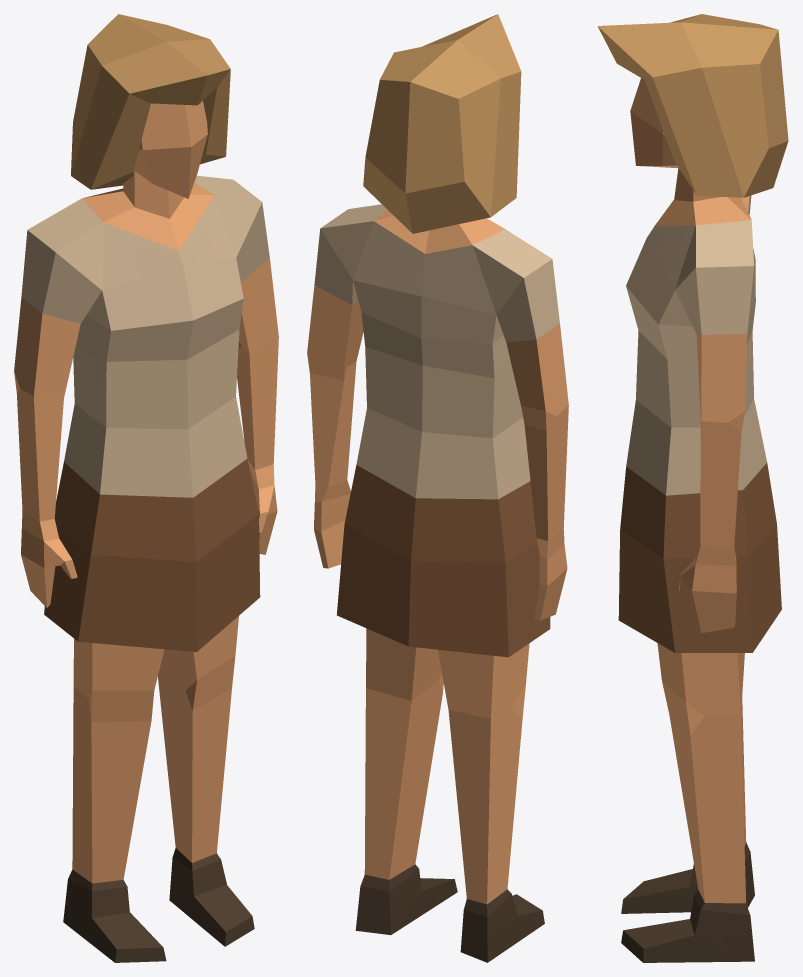
File: casual woman.obj
3 renders of one model, left to right at view 1: azimuth 30°, elevation 25°; view 2: azimuth 150°, elevation 25°; view 3: azimuth 270°, elevation 25°, orthographic. The views are drawn at different scales.
Parts seen in each view (by area): view 1: woman-casual; view 2: woman-casual; view 3: woman-casual.
Part boxes in pixels (x1,y1,x2,y2): woman-casual: (14,14,278,962); woman-casual: (307,14,568,962); woman-casual: (597,14,788,962).
Bounding box in the file's own units: 0.1516 × 0.5237 × 0.1001.
